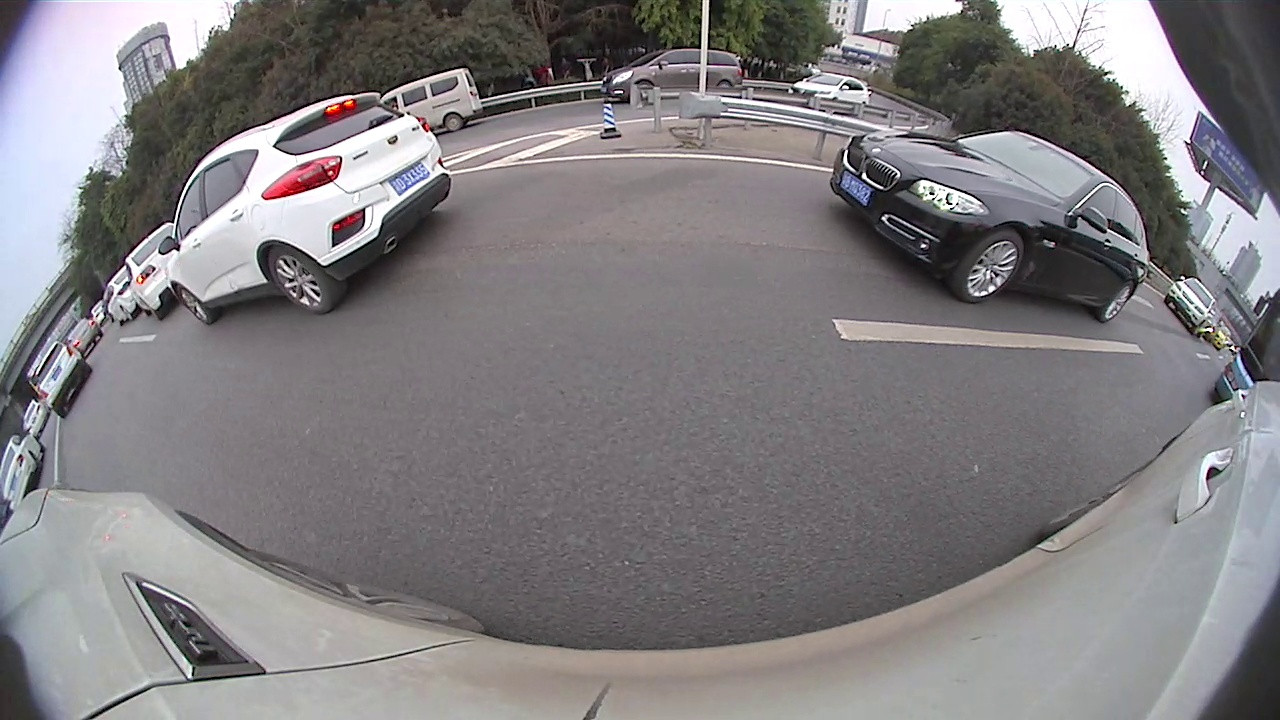car: (144, 127, 348, 261), (966, 137, 1116, 297), (768, 88, 948, 192), (1182, 382, 1279, 525), (2, 318, 63, 399), (1154, 314, 1191, 363), (1180, 362, 1218, 407), (1122, 276, 1158, 316)
front: (225, 191, 262, 239), (912, 163, 940, 192), (1069, 277, 1093, 303)
rear: (816, 129, 850, 164), (1024, 244, 1054, 280), (160, 227, 185, 262)
